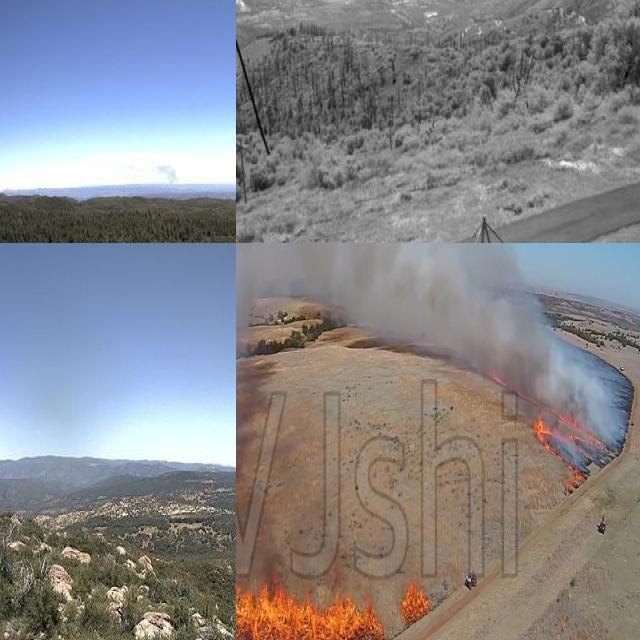fire: (490, 366, 620, 497), (236, 546, 385, 640), (399, 574, 433, 634)
smoke: (251, 243, 629, 413), (153, 161, 177, 188)
